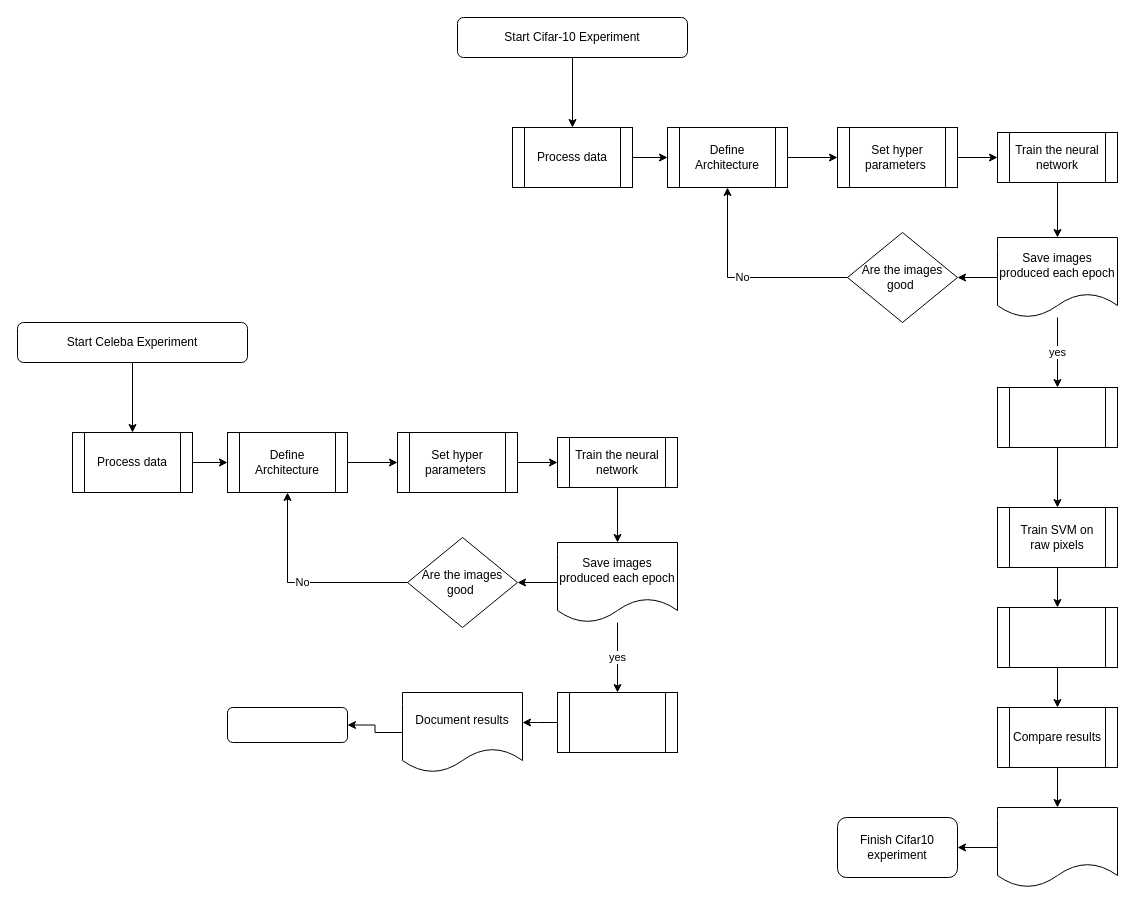
This 1135x905 diagram has some shape labels left out. The centre of each missing label's shape, as x and y in pixels:
"Document results." goes at point (1057, 847).
"Extract features from CIFAR-10 data" goes at point (1057, 417).
"Finish Celeba experiment" goes at point (287, 724).
"Perform experiments" goes at point (617, 722).
"Train SVM on extracted features." goes at point (1057, 637).
